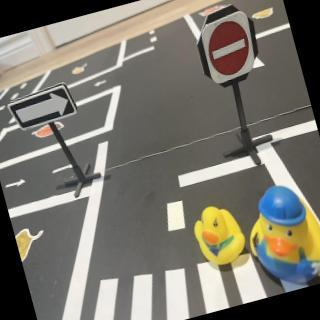duck_regular: (190, 201, 252, 272)
duck_specialty: (235, 177, 320, 299)
road_crosswalk: (70, 234, 271, 320)
road_oneway: (50, 161, 77, 178), (3, 176, 28, 192), (93, 77, 109, 88)
sign_noentry: (198, 9, 264, 86)
sign_oneway_right: (6, 79, 81, 133)
